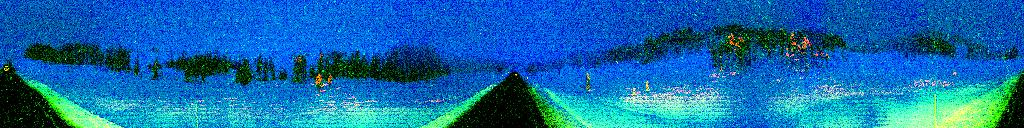pole: (932, 89, 939, 126), (193, 101, 200, 128)
